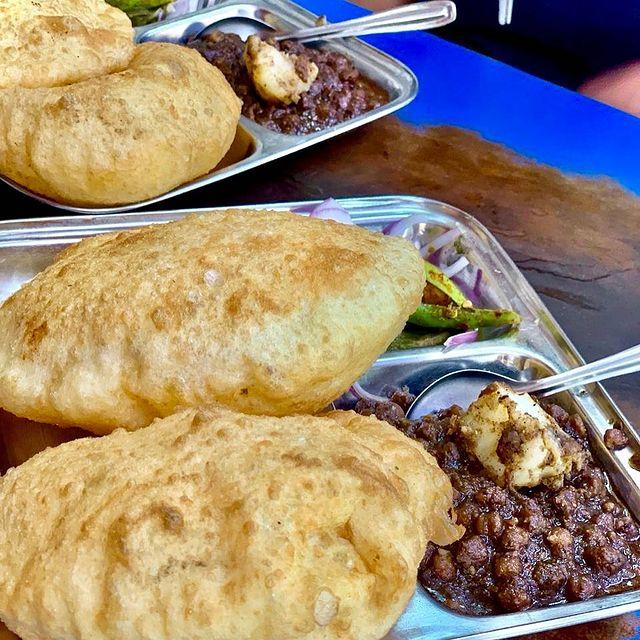Chole: (464, 471, 638, 622)
